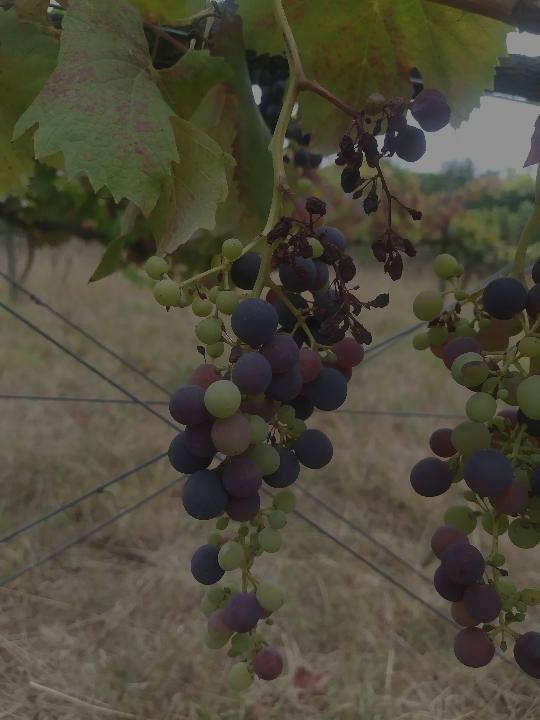grape: (140, 198, 390, 694), (327, 85, 450, 284)
